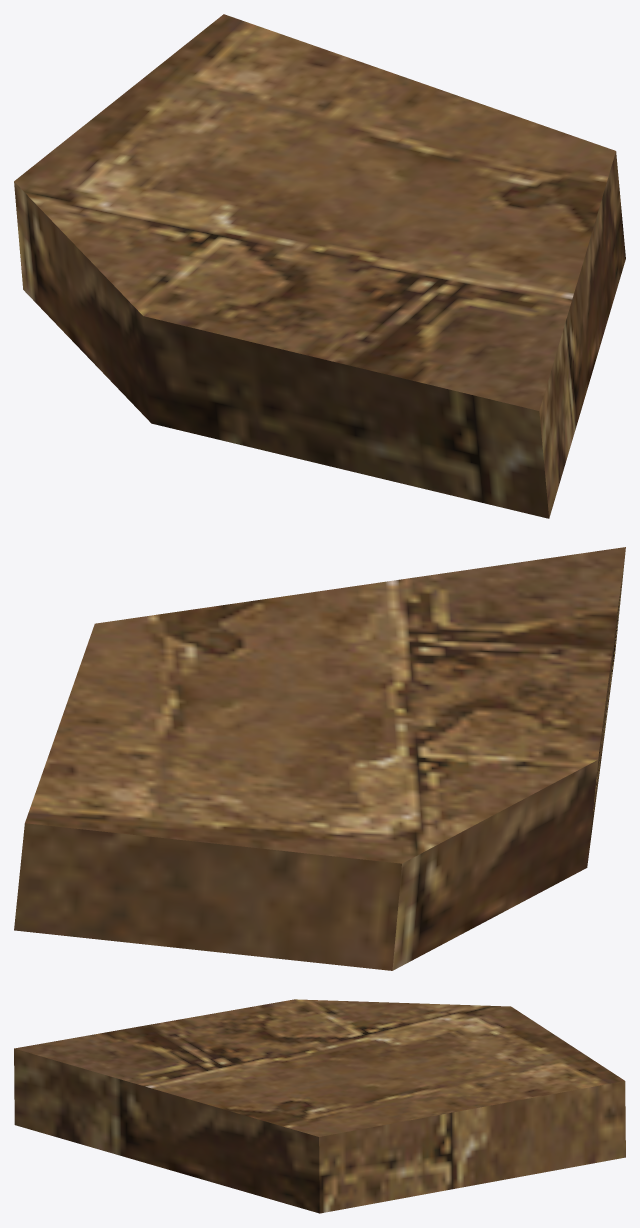
Rendered from Scene_suishi_006.FBX.
3 views of the same model, one above another, from view 1: azimuth 30°, elevation 25°; view 2: azimuth 150°, elevation 25°; view 3: azimuth 270°, elevation 25° (orthographic). The views are drawn at different scales.
Visible parts, largest first — view 1: Scene_suishi_006; view 2: Scene_suishi_006; view 3: Scene_suishi_006.
Part boxes in pixels (x1=…): Scene_suishi_006: x1=14, y1=14, x2=625, y2=518; Scene_suishi_006: x1=14, y1=547, x2=625, y2=970; Scene_suishi_006: x1=14, y1=999, x2=625, y2=1213.
Size of the model in its own units: 1.31 by 0.3705 by 2.09.
